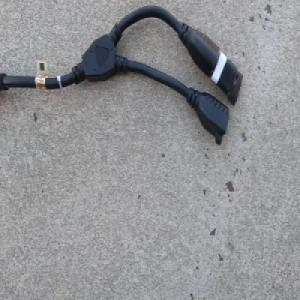Wire: (0, 3, 243, 146)
